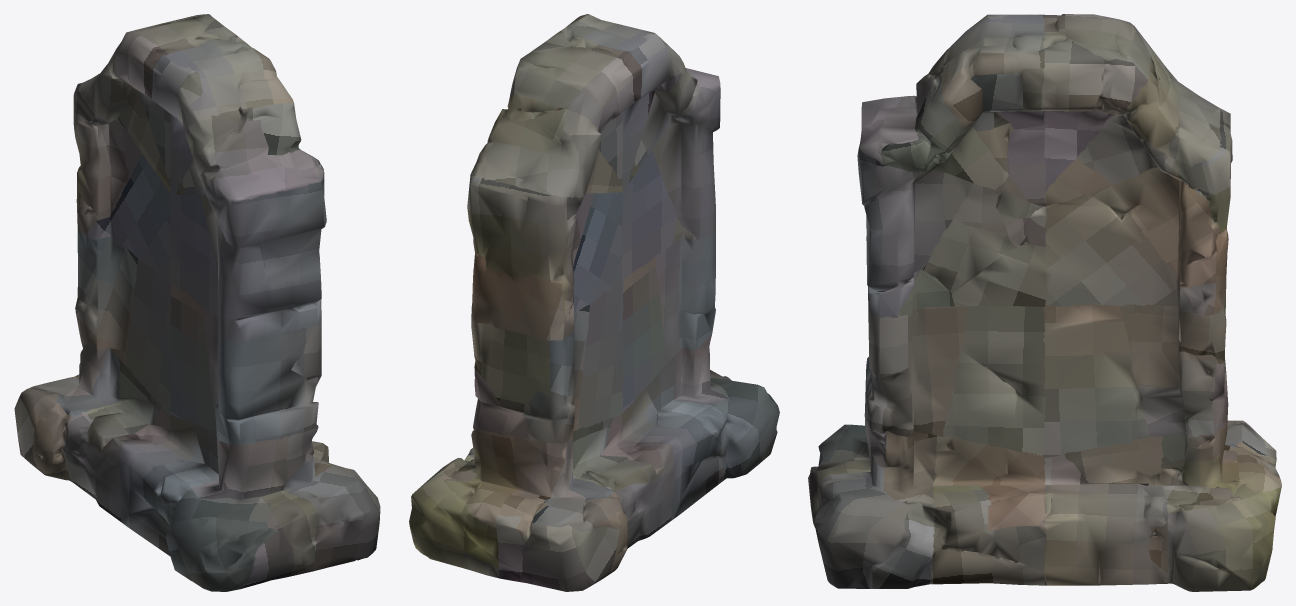
Rendered from cracked_grave.glb.
3 renders of one model, left to right at view 1: azimuth 30°, elevation 25°; view 2: azimuth 150°, elevation 25°; view 3: azimuth 270°, elevation 25°, orthographic. The views are drawn at different scales.
Visible parts, largest first — view 1: tripo_node_ad50e039-1578-4216-ae62-b8a7fe105e23; view 2: tripo_node_ad50e039-1578-4216-ae62-b8a7fe105e23; view 3: tripo_node_ad50e039-1578-4216-ae62-b8a7fe105e23.
Boxes of the visible parts, box(x1,y1,x2,y2) form: tripo_node_ad50e039-1578-4216-ae62-b8a7fe105e23: box(14, 14, 380, 591); tripo_node_ad50e039-1578-4216-ae62-b8a7fe105e23: box(409, 14, 779, 591); tripo_node_ad50e039-1578-4216-ae62-b8a7fe105e23: box(808, 14, 1281, 591).
Size of the model in its own units: 0.4331 by 0.9993 by 0.8297.
1 material, 1 textured.
